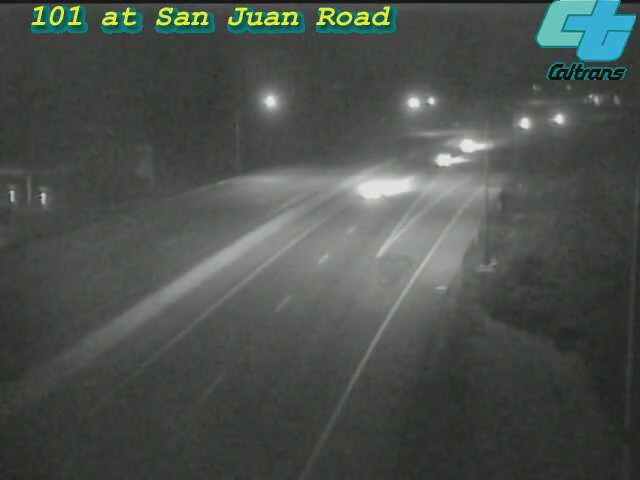vehicle: (337, 147, 417, 227), (500, 98, 550, 148), (532, 94, 582, 144), (444, 120, 494, 170), (419, 133, 469, 183)
